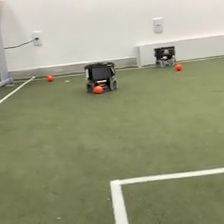ball: (92, 83, 103, 95), (46, 72, 54, 81), (175, 63, 183, 71)
goal: (134, 32, 224, 71)
robot: (83, 59, 119, 94), (152, 44, 177, 69)
